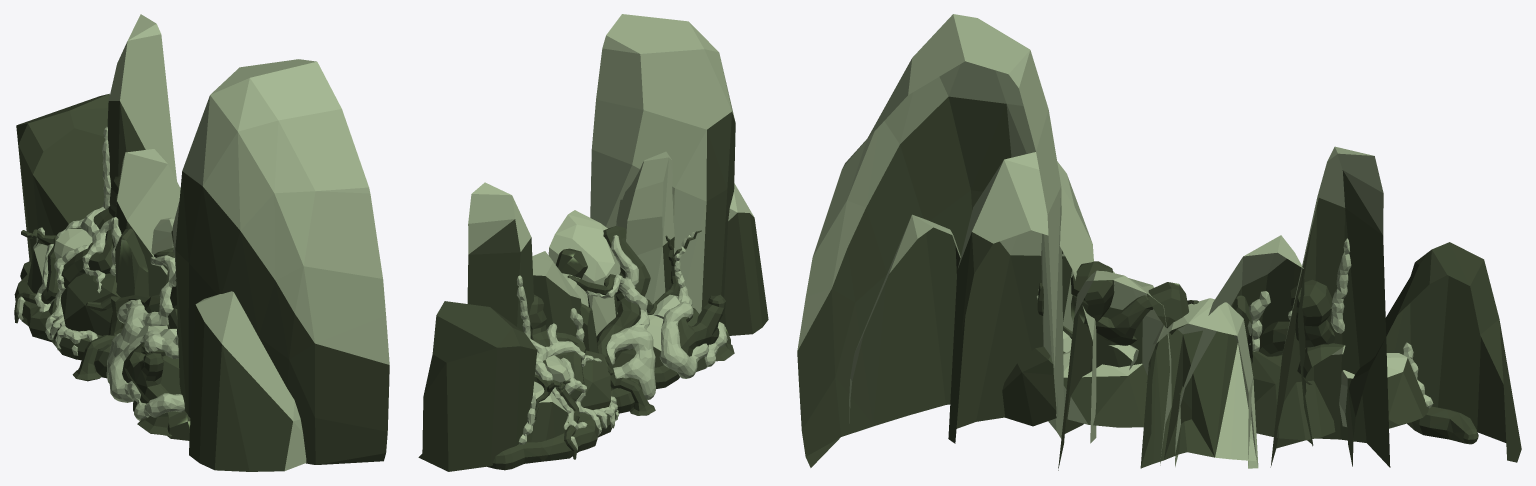
Rendered from EA_Swamp_Wall_01d.glb.
The picture shows the model from 3 angles, left to right: view 1: azimuth 30°, elevation 25°; view 2: azimuth 150°, elevation 25°; view 3: azimuth 270°, elevation 25°; orthographic projection. The views are drawn at different scales.
Visible parts, largest first — view 1: EA_Swamp_Wall_01d; view 2: EA_Swamp_Wall_01d; view 3: EA_Swamp_Wall_01d.
Part boxes in pixels (x1,y1,x2,y2): EA_Swamp_Wall_01d: (14,14,389,471); EA_Swamp_Wall_01d: (418,14,768,471); EA_Swamp_Wall_01d: (797,14,1521,470).
Bounding box in the file's own units: 4.48 × 10.51 × 16.03.
1 material, 1 textured.
